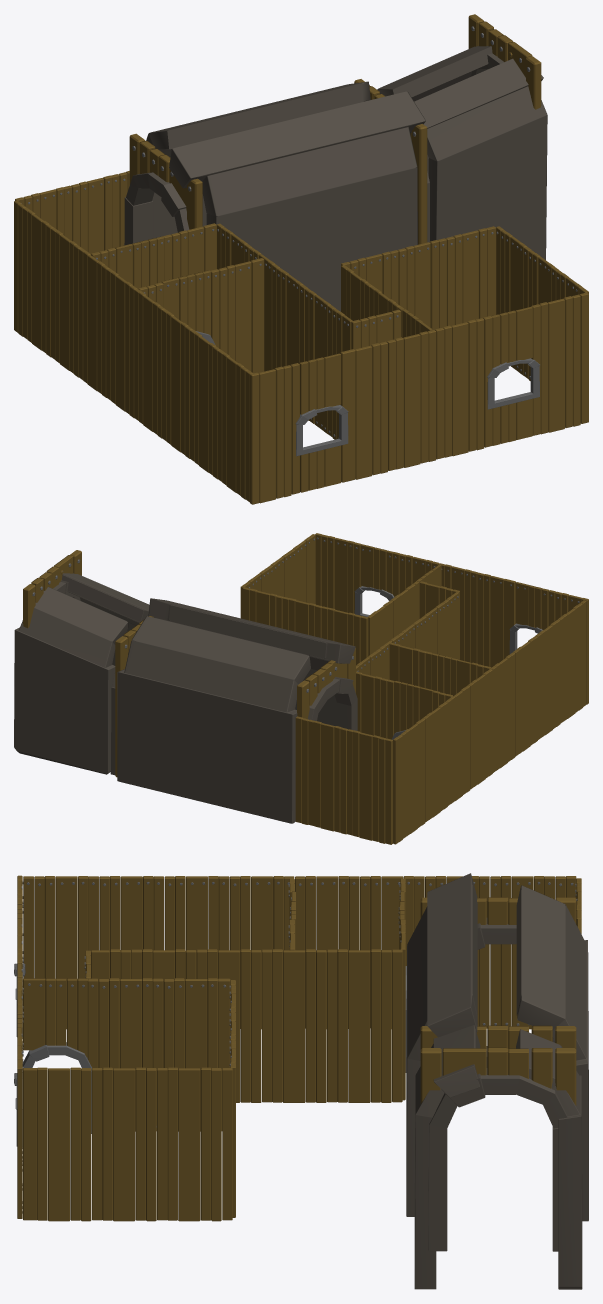
The model's file is wallsmodel 1.fbx.
3 renders of one model, top to bottom at view 1: azimuth 30°, elevation 25°; view 2: azimuth 150°, elevation 25°; view 3: azimuth 270°, elevation 25°, orthographic. The views are drawn at different scales.
Visible parts, largest first — view 1: wallsmodel; view 2: wallsmodel; view 3: wallsmodel.
Part boxes in pixels (left/top/right/bottom): wallsmodel: left=14, top=14, right=588, bottom=504; wallsmodel: left=14, top=533, right=588, bottom=844; wallsmodel: left=14, top=873, right=588, bottom=1289.
Size of the model in its own units: 48.75 by 20.3 by 43.91.
